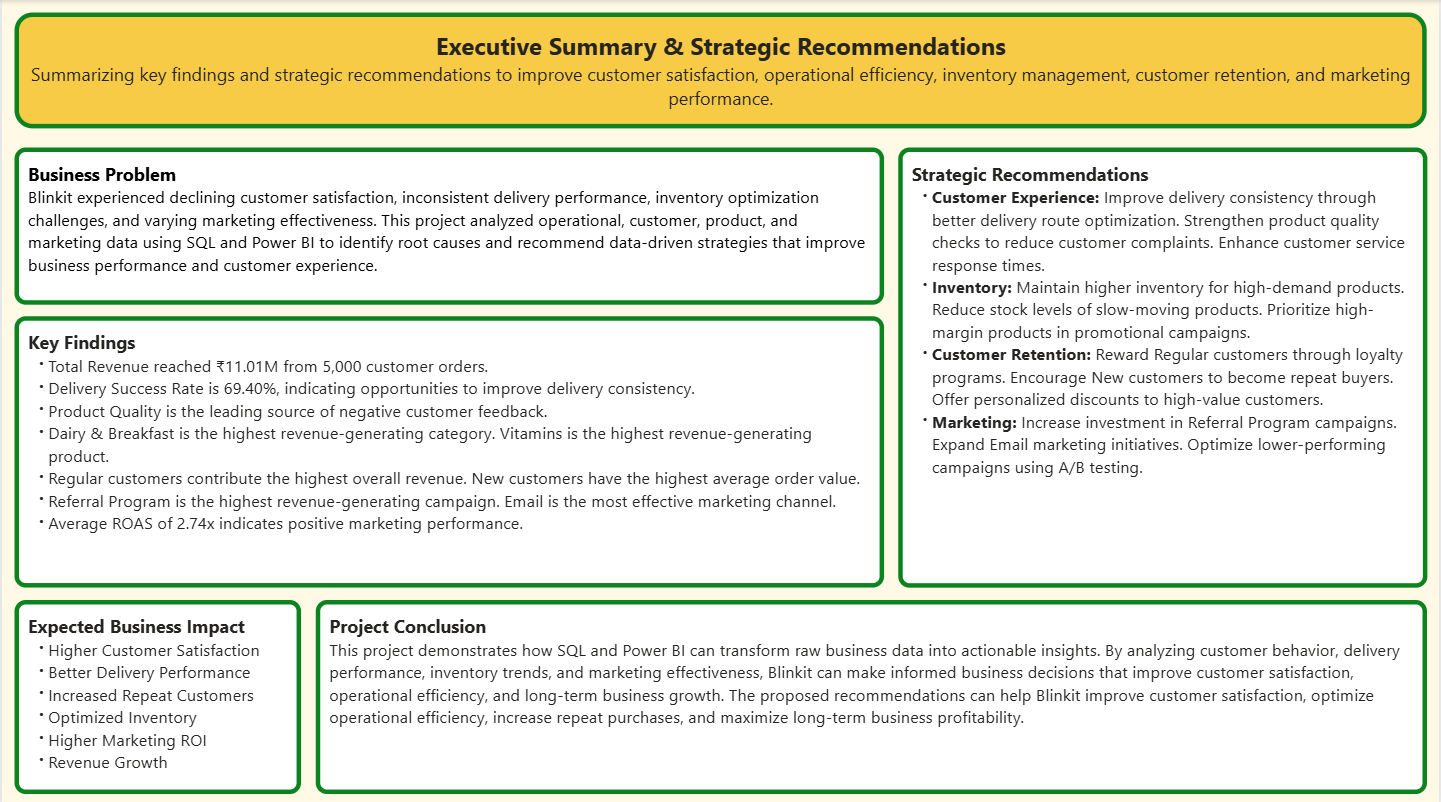

This screenshot's page, from the dashboard's own definition file:
{"tool":"powerbi","page":{"name":"Executive Summary & Strategic Recommendations","canvas":[1280,720],"ordinal":5},"visuals":[{"type":"textbox","box":[11.1,11.1,1257.9,103.5],"z":0},{"type":"textbox","box":[11.1,131.4,774.8,140.3],"z":1000},{"type":"textbox","box":[11.1,281.6,774.8,241.6],"z":2000},{"type":"textbox","box":[798.1,131.4,470.9,391.8],"z":3000},{"type":"textbox","box":[11.1,534.3,254.9,172.5],"z":3001},{"type":"textbox","box":[279.4,534.3,989.6,172.5],"z":3002}]}

Visuals, with their boxes in screenshot pixels (x1, y1, x2, y2), scaled from the page's 1280x720 canvas onto the 1441x802 screenshot:
textbox: bbox(12, 12, 1429, 128)
textbox: bbox(12, 146, 885, 303)
textbox: bbox(12, 314, 885, 583)
textbox: bbox(898, 146, 1429, 583)
textbox: bbox(12, 595, 299, 787)
textbox: bbox(315, 595, 1429, 787)
